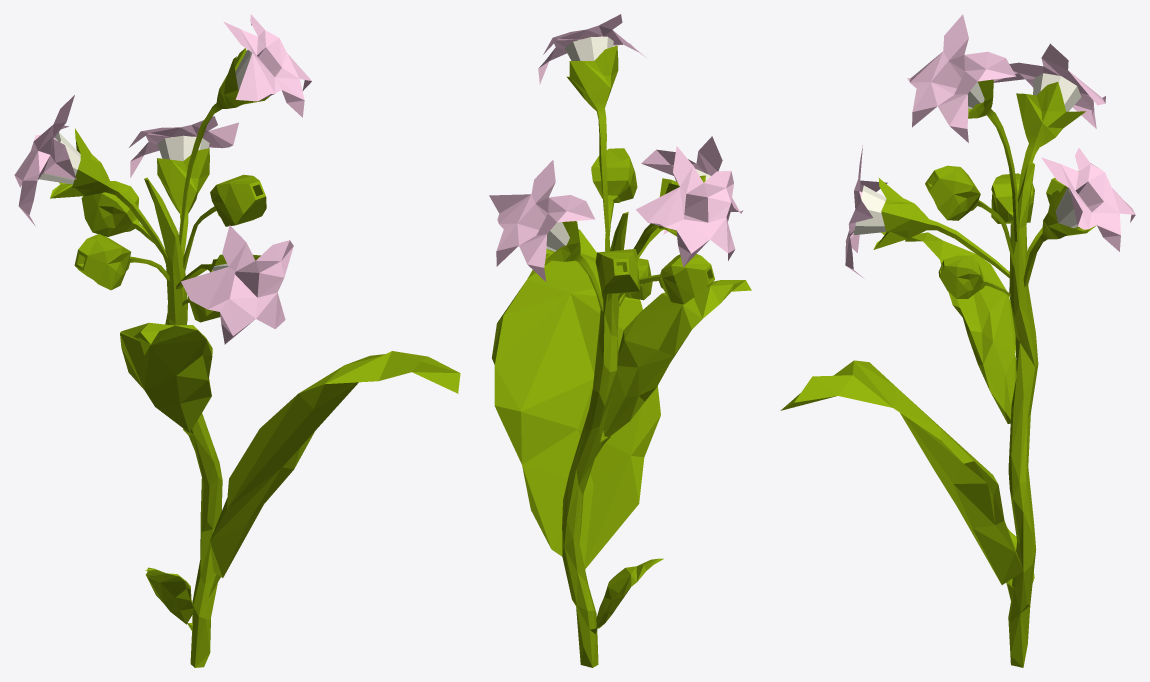
The model's file is tobacco plant.gltf.
3 renders of one model, left to right at view 1: azimuth 30°, elevation 25°; view 2: azimuth 150°, elevation 25°; view 3: azimuth 270°, elevation 25°, orthographic. The views are drawn at different scales.
Visible parts, largest first — view 1: tobacco plant; view 2: tobacco plant; view 3: tobacco plant.
Boxes of the visible parts, <box> form: tobacco plant: <box>14,14,460,667</box>; tobacco plant: <box>489,14,751,667</box>; tobacco plant: <box>780,14,1135,667</box>.
Bounding box in the file's own units: 1.69 × 3.46 × 1.72.
